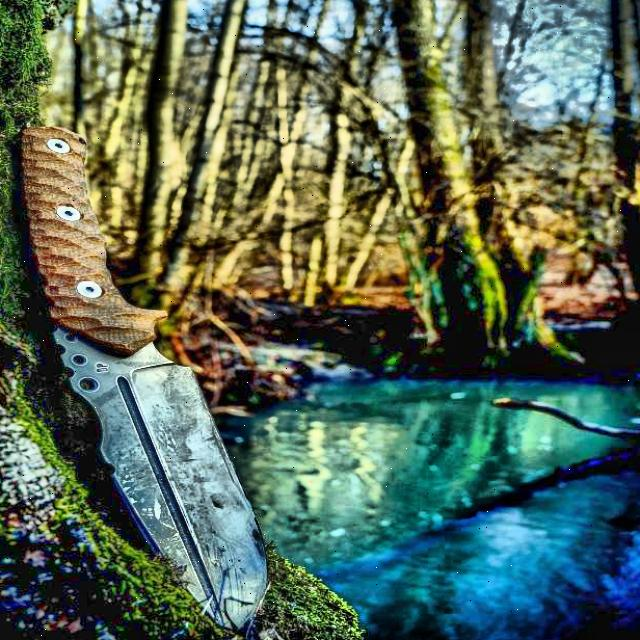knife: (7, 108, 286, 632)
